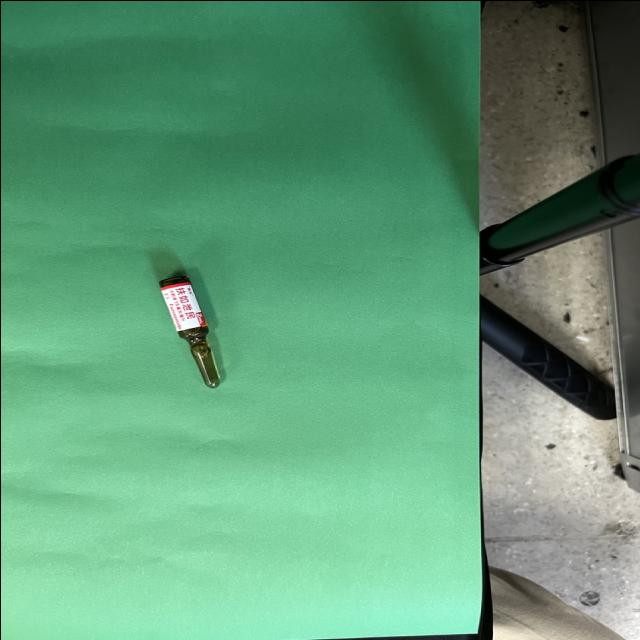Ampoules: (158, 274, 220, 388)
